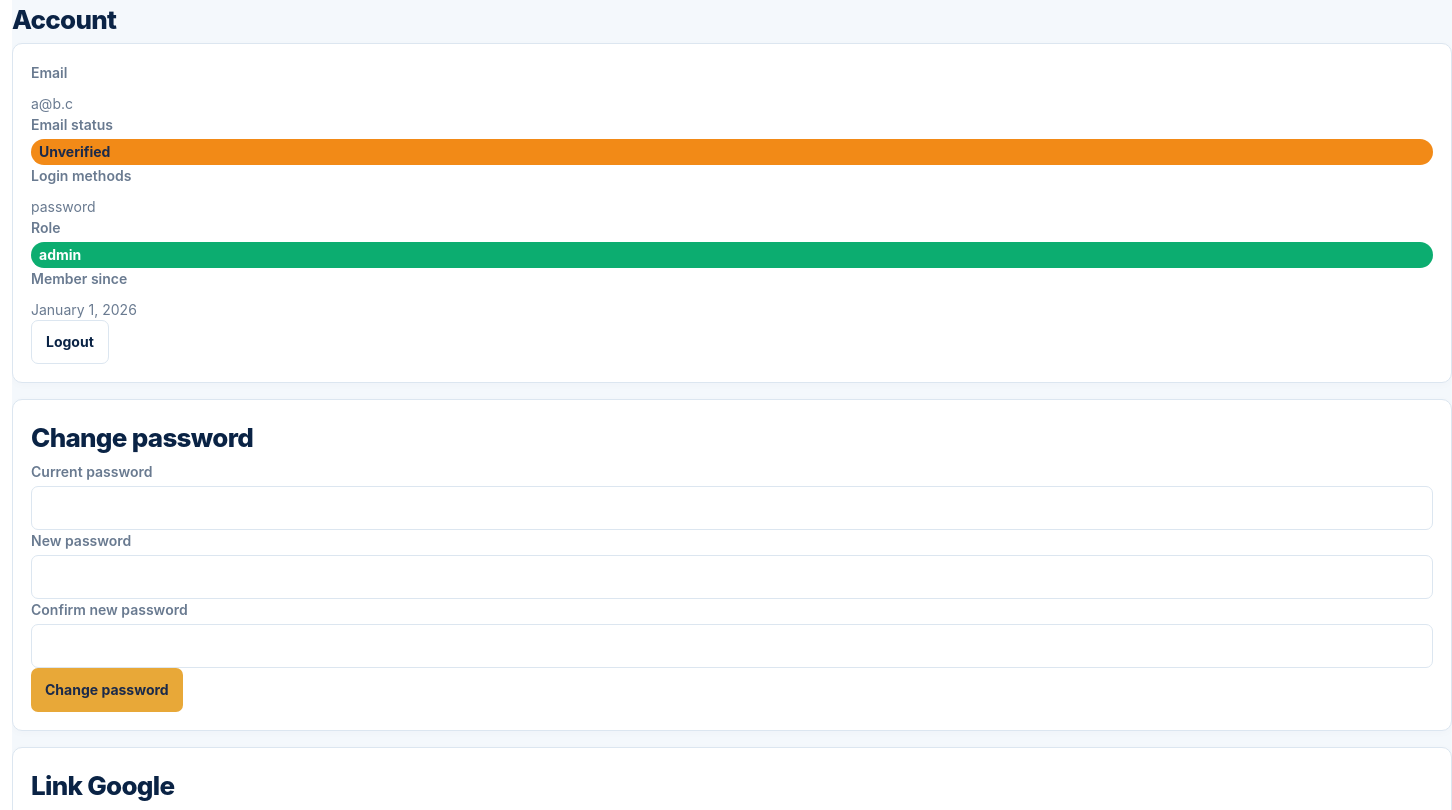
Test: AccountPage › blocks submit when the confirmation does not match
expect the text "a@b.c" is shown: met, box [31,95,73,112]
Type "old" into the password field labelled "Current password" at {"x": 732, "y": 508}, box [31,486,1433,530]
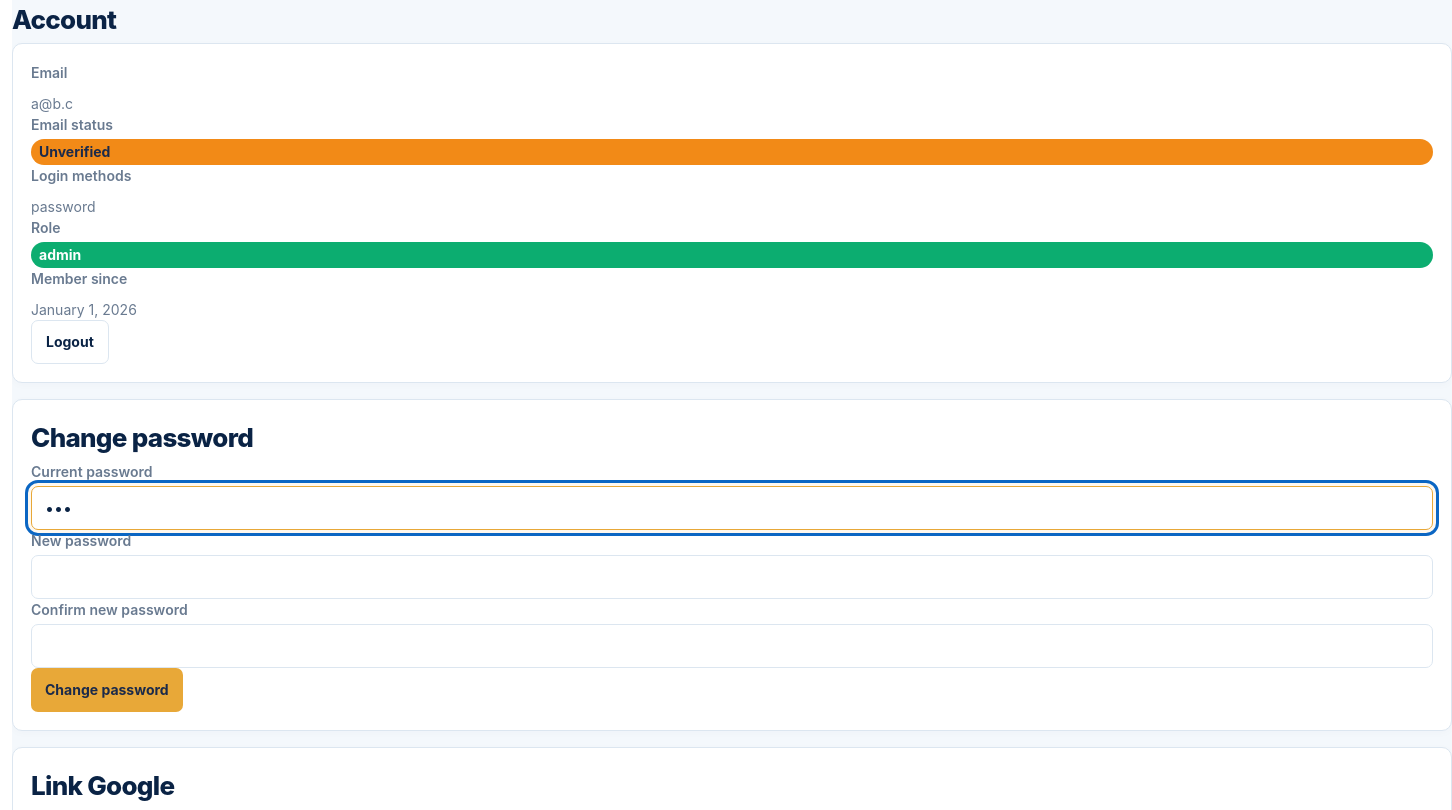
Type "new1" into the password field labelled "New password" at {"x": 732, "y": 577}, box [31,555,1433,599]
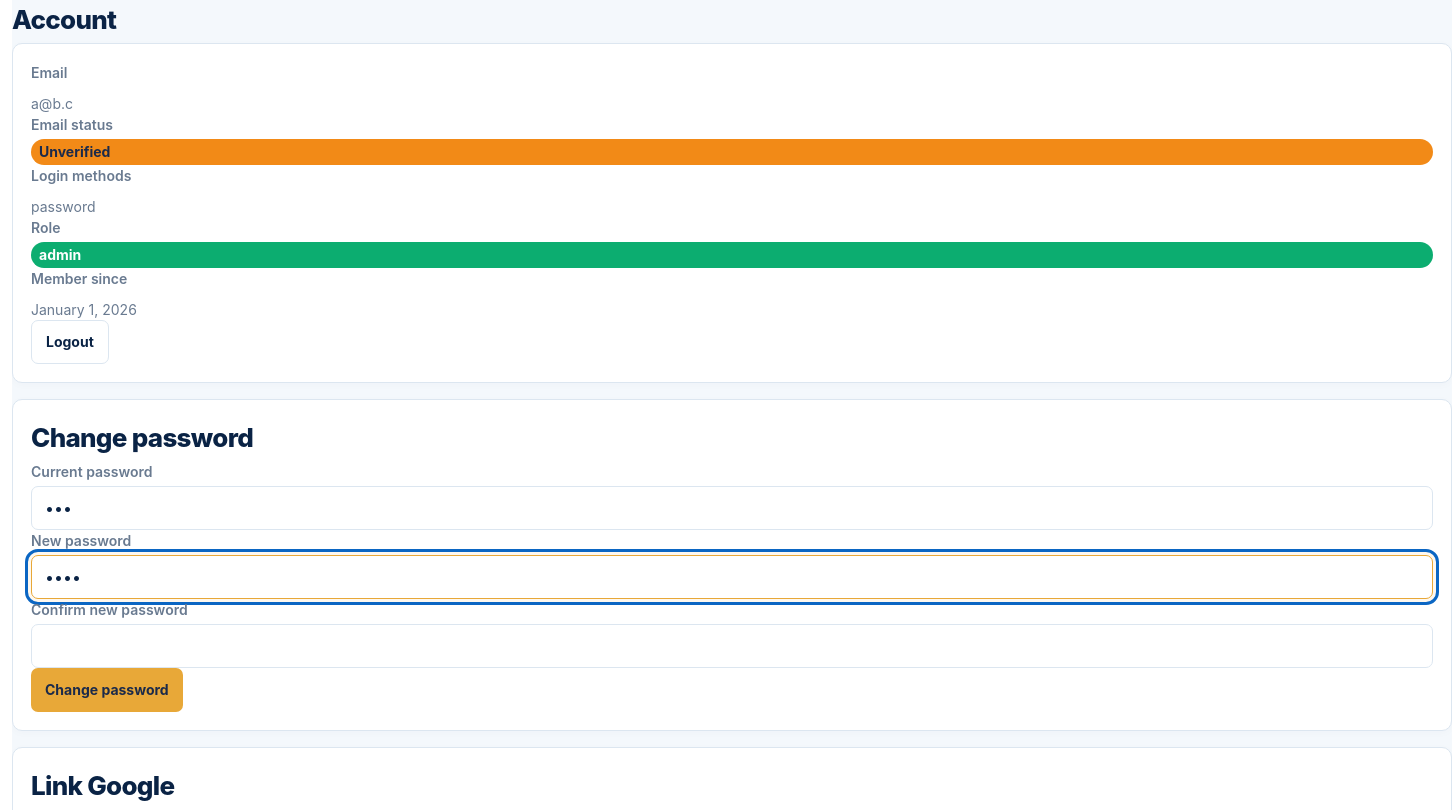
Type "new2" into the password field labelled "Confirm new password" at {"x": 732, "y": 646}, box [31,624,1433,668]
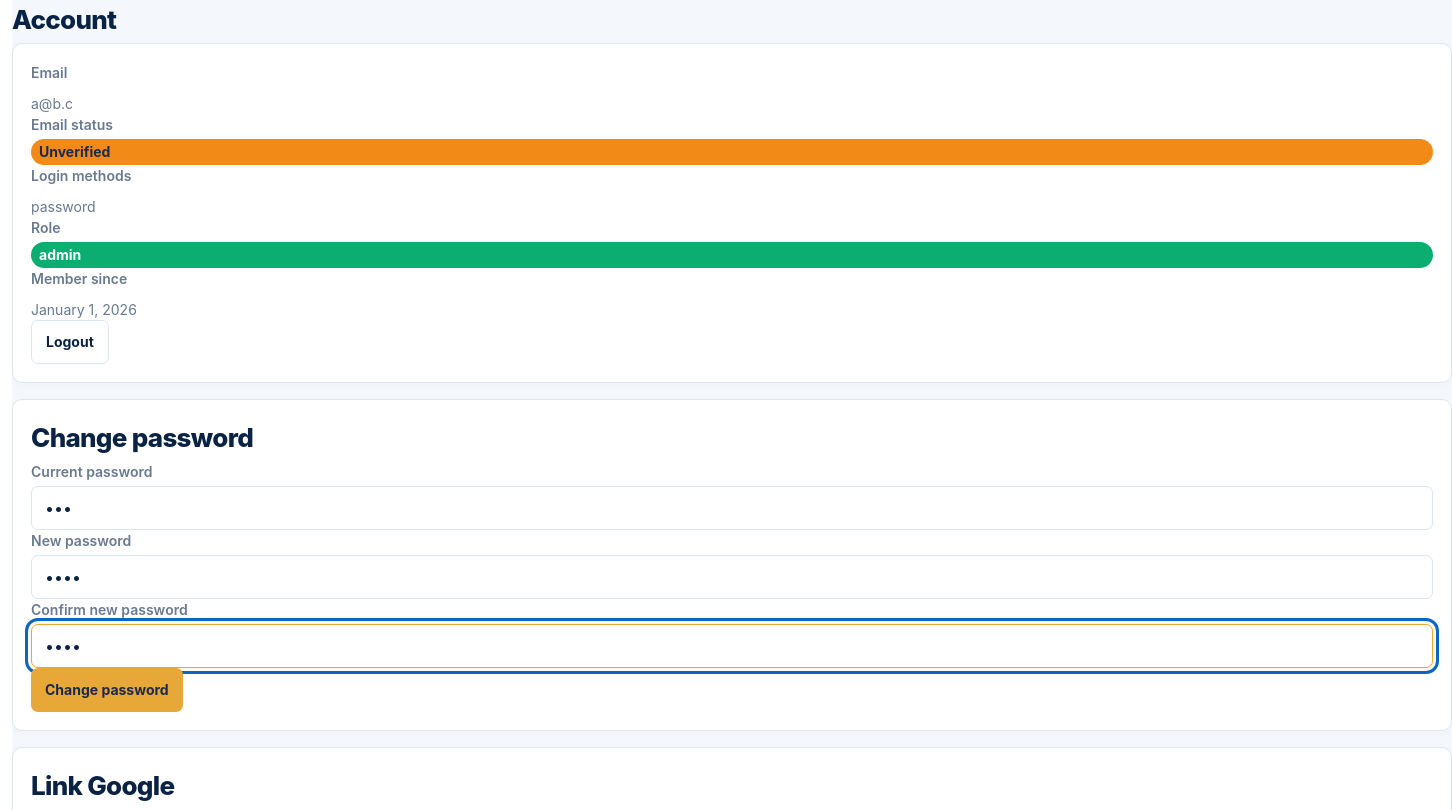
Click the button "Change password" at {"x": 107, "y": 690}, box [31,668,183,712]
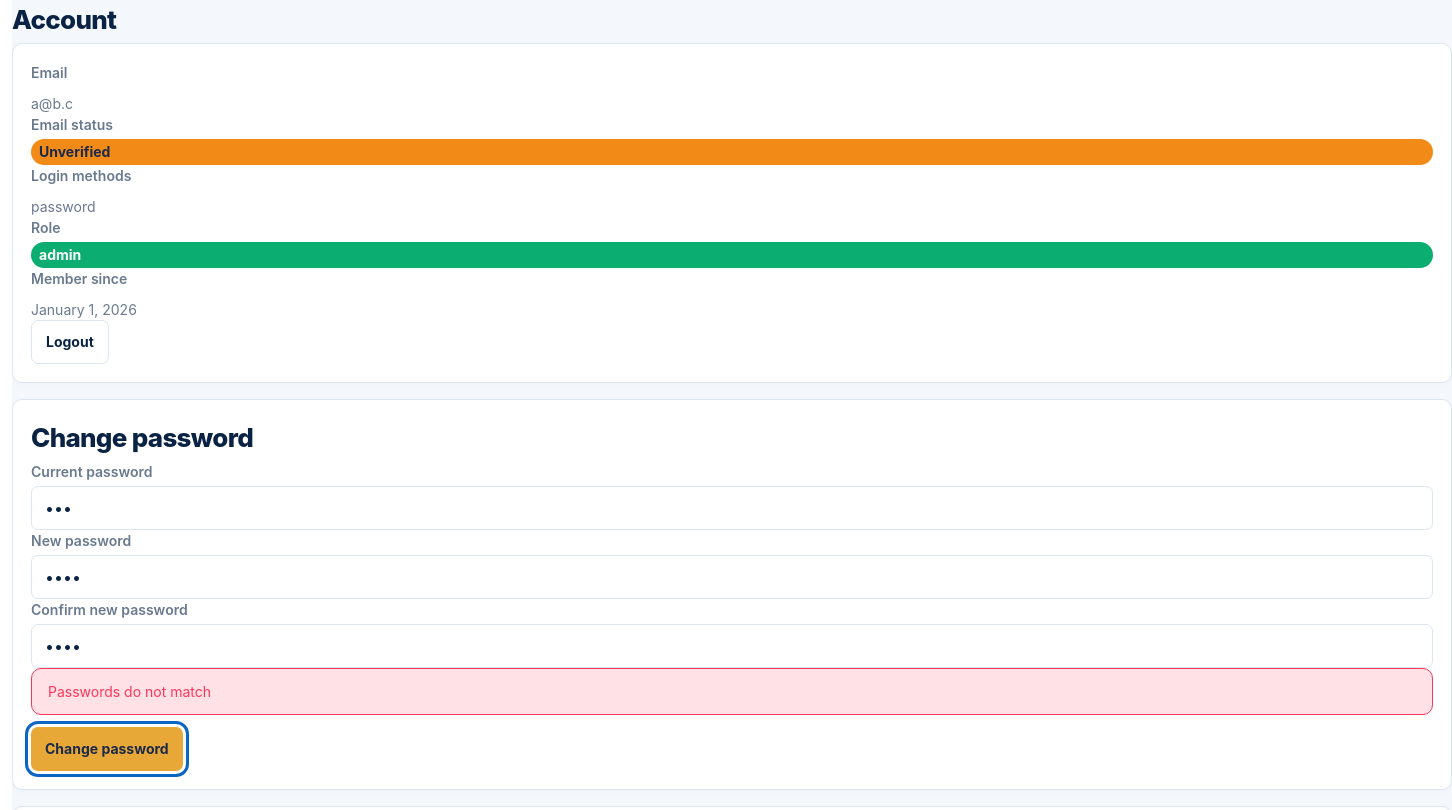
expect the text "Passwords do not match" is shown: met, box [31,668,1433,715]
